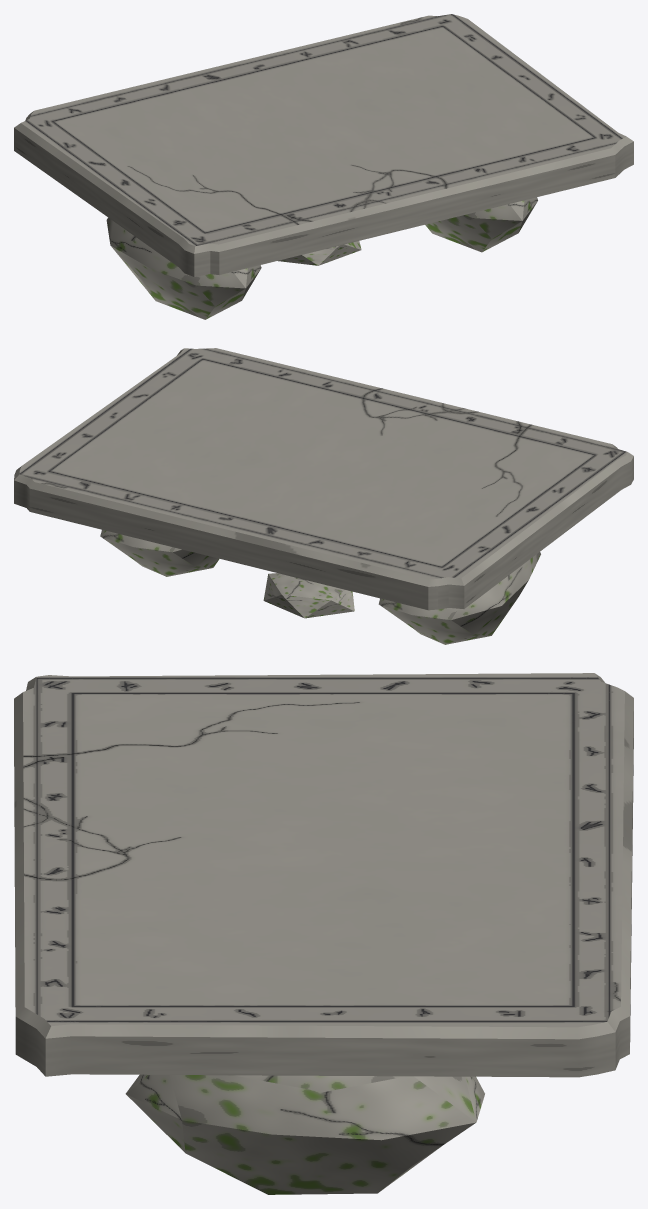
The model's file is Table_Stone.fbx.
The picture shows the model from 3 angles, top to bottom: view 1: azimuth 30°, elevation 25°; view 2: azimuth 150°, elevation 25°; view 3: azimuth 270°, elevation 25°; orthographic projection. The views are drawn at different scales.
Visible parts, largest first — view 1: Table_Stone; view 2: Table_Stone; view 3: Table_Stone.
Part boxes in pixels (<box>): Table_Stone: <box>14,14,633,319</box>; Table_Stone: <box>14,348,633,644</box>; Table_Stone: <box>14,673,633,1194</box>.
Bounding box in the file's own units: 5.71 × 1.6 × 4.14.
1 material, 1 textured.
